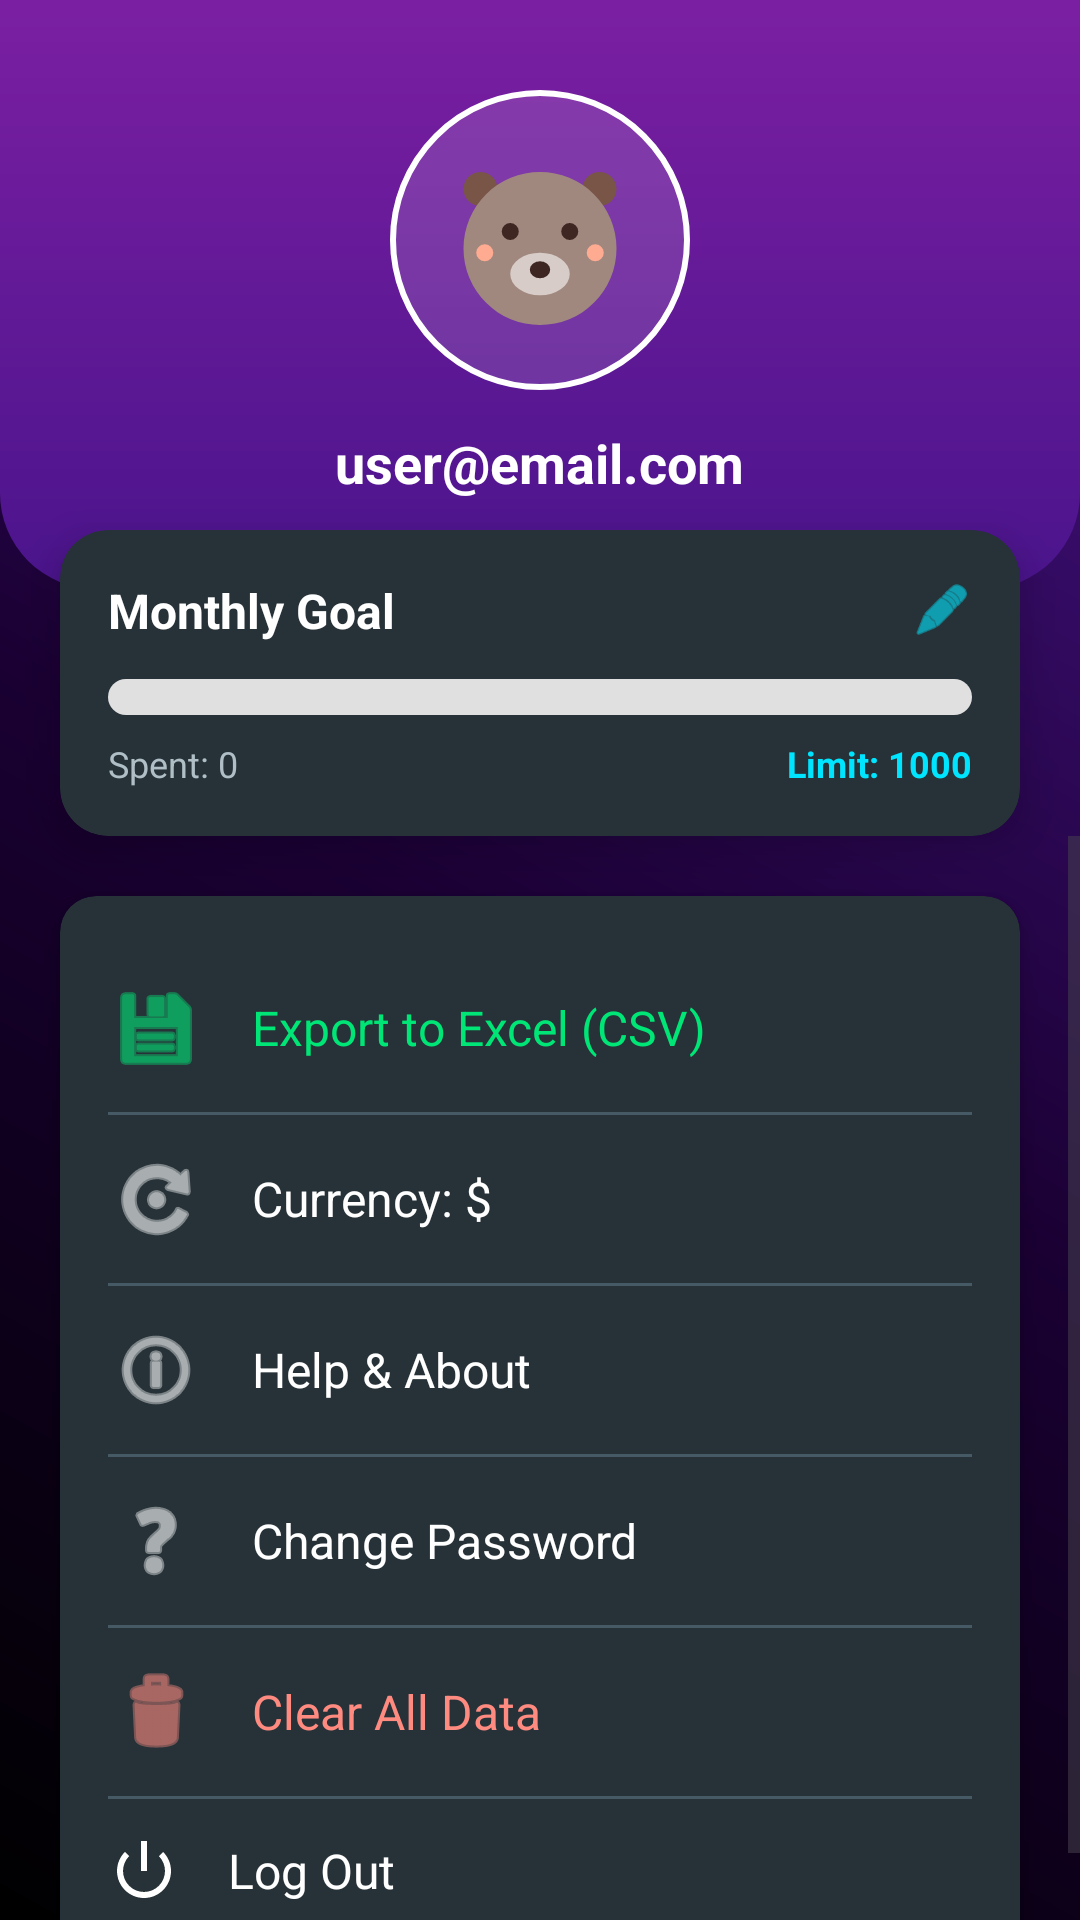

Icons on this 1080x1920 Android screen, each with the point to tap as (x,y):
cute bear: (540,240)
edit: (941,609)
